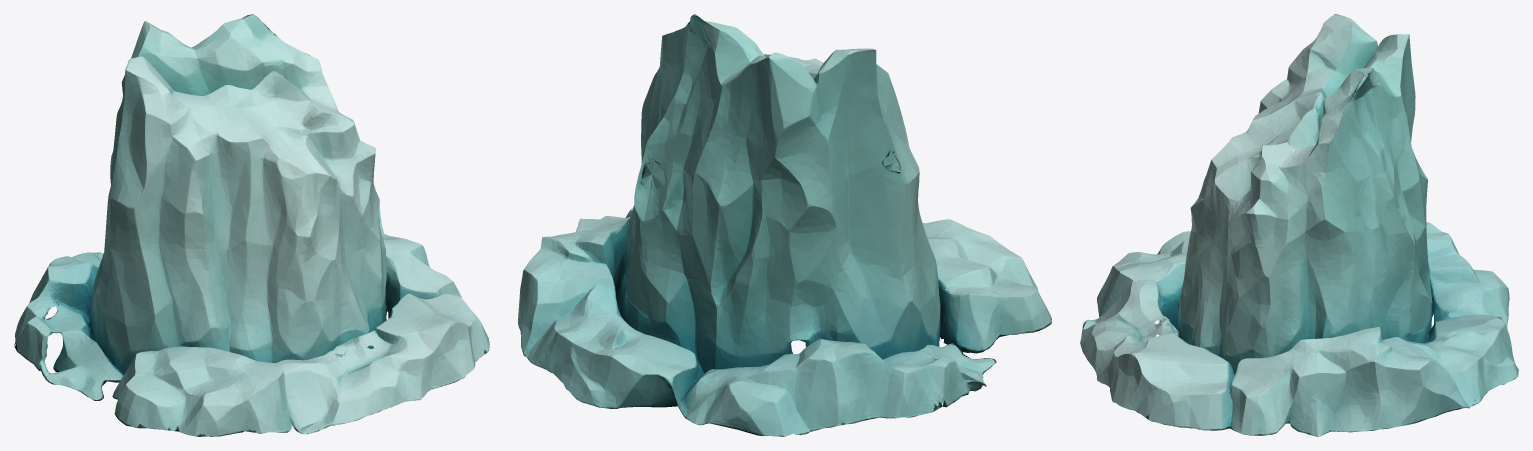
3 renders of one model, left to right at view 1: azimuth 30°, elevation 25°; view 2: azimuth 150°, elevation 25°; view 3: azimuth 270°, elevation 25°, orthographic. The views are drawn at different scales.
Visible parts, largest first — view 1: world; view 2: world; view 3: world.
Part boxes in pixels (left/top/right/bottom): world: left=14, top=14, right=489, bottom=436; world: left=518, top=14, right=1051, bottom=436; world: left=1080, top=14, right=1518, bottom=436.
Size of the model in its own units: 0.9957 by 0.732 by 0.9835.
1 material, 1 textured.
